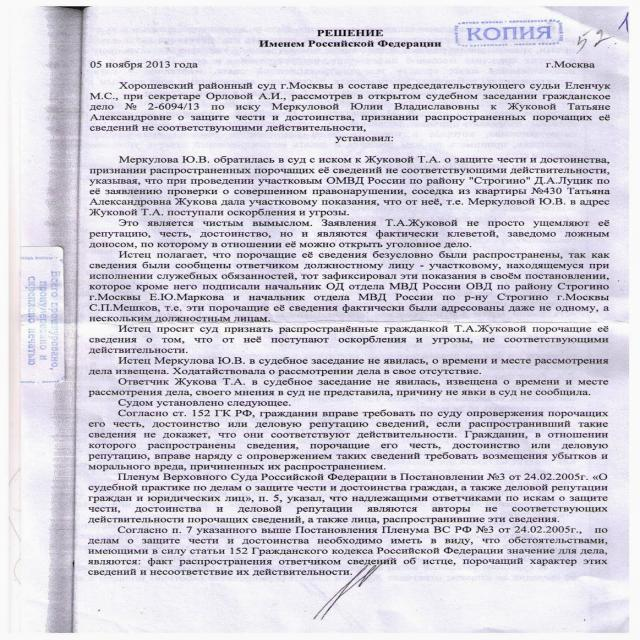stamps: (0, 230, 124, 394), (417, 20, 611, 64)
